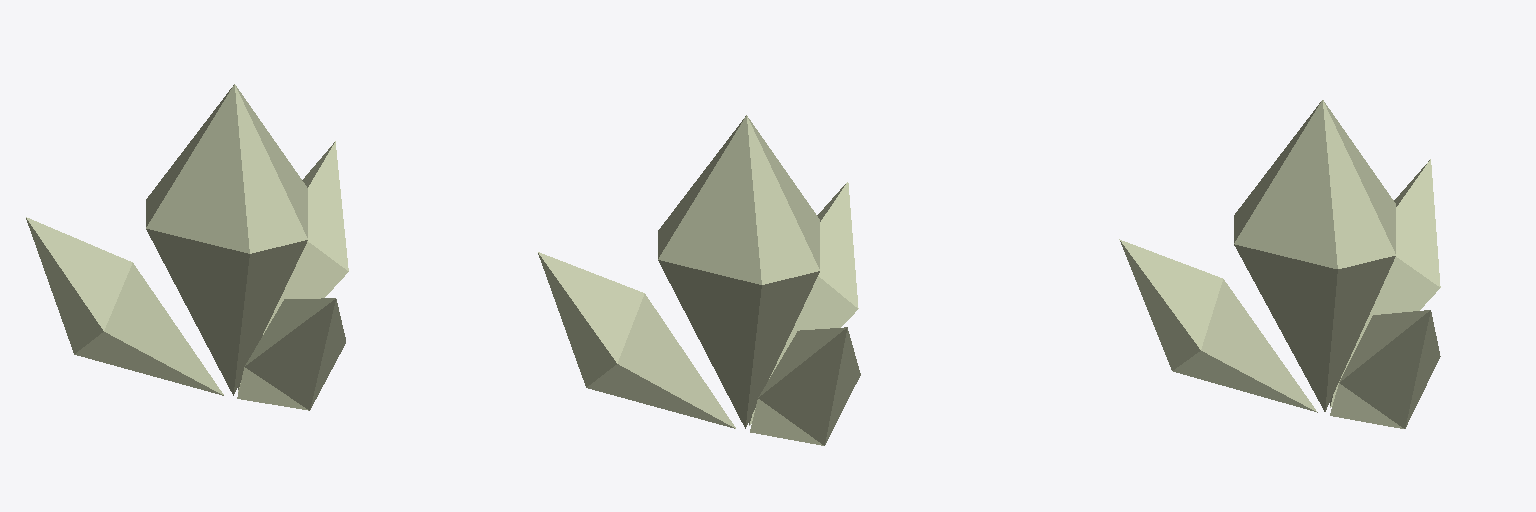
The model's file is crystal_cluster.obj.
3 renders of one model, left to right at view 1: azimuth 30°, elevation 25°; view 2: azimuth 150°, elevation 25°; view 3: azimuth 270°, elevation 25°, orthographic.
Parts seen in each view (by area): view 1: tetrahedron1; view 2: tetrahedron1; view 3: tetrahedron1.
Part boxes in pixels (bbox=[...]): tetrahedron1: bbox=[26, 84, 348, 410]; tetrahedron1: bbox=[538, 115, 860, 445]; tetrahedron1: bbox=[1119, 100, 1440, 428].
Bounding box in the file's own units: 1.31 × 1.27 × 1.18.